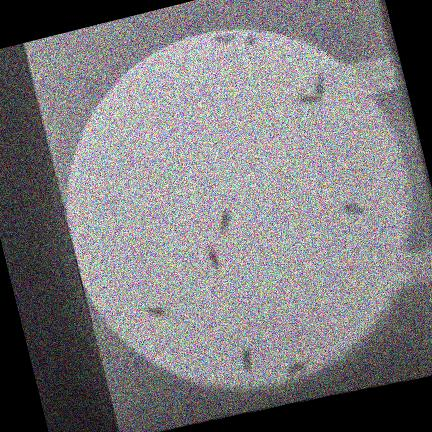fly: (205, 246, 220, 272), (286, 361, 307, 377), (217, 209, 230, 234), (240, 346, 252, 373), (144, 306, 171, 317), (341, 202, 363, 215), (213, 33, 235, 45), (314, 73, 323, 97), (297, 95, 320, 104), (245, 33, 256, 45)
